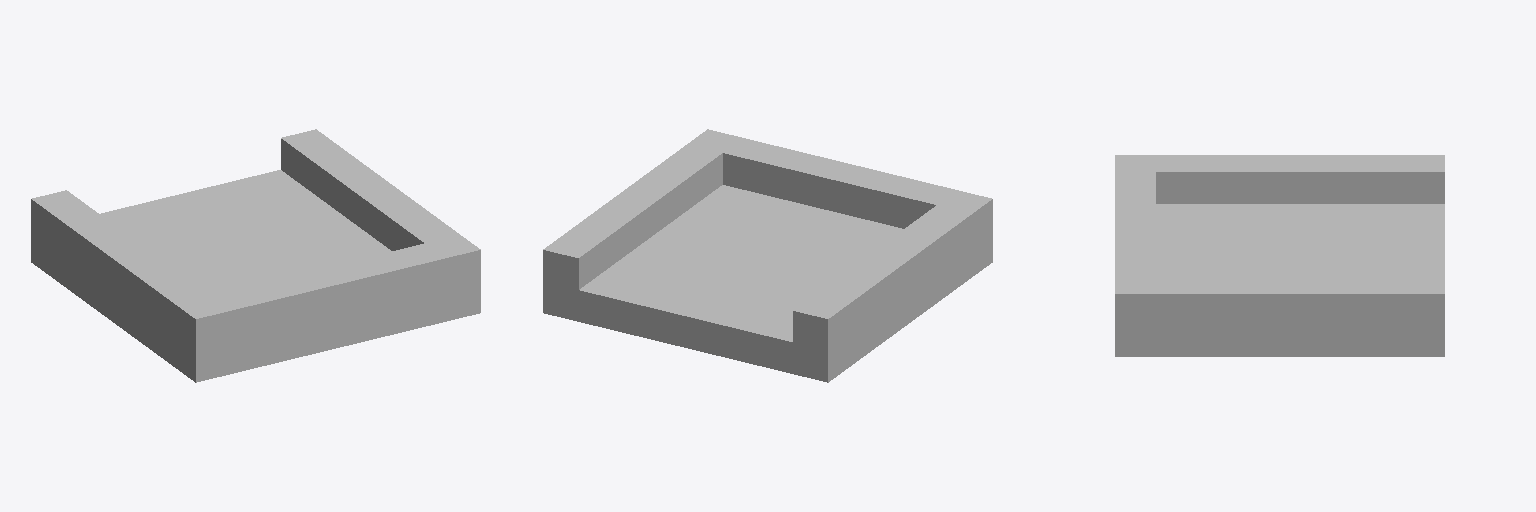
The model's file is roof-flat-border-end.obj.
The picture shows the model from 3 angles: view 1: azimuth 30°, elevation 25°; view 2: azimuth 150°, elevation 25°; view 3: azimuth 270°, elevation 25°; orthographic projection.
Visible parts, largest first — view 1: roof-flat-border-end; view 2: roof-flat-border-end; view 3: roof-flat-border-end.
Part boxes in pixels (x1,y1,x2,y2): roof-flat-border-end: (31, 129, 480, 382); roof-flat-border-end: (543, 129, 992, 382); roof-flat-border-end: (1115, 155, 1444, 356).
Bounding box in the file's own units: 1 × 0.2125 × 1.